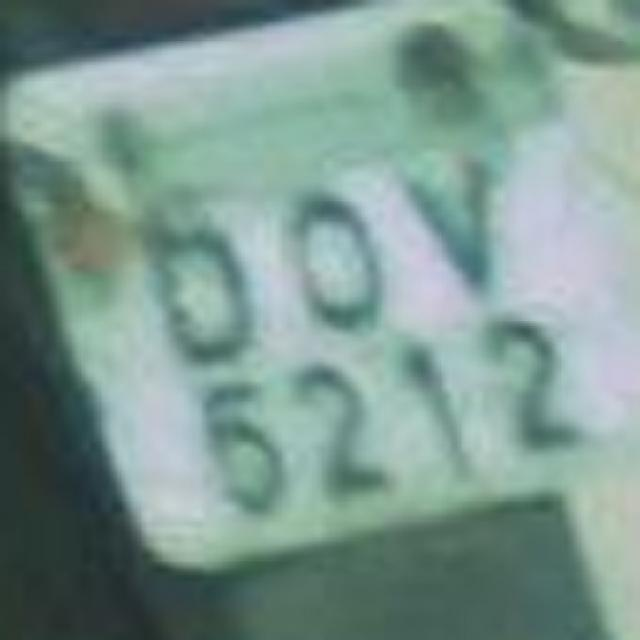1: (380, 316, 488, 484)
2: (268, 336, 424, 512)
3: (456, 284, 612, 468)
6: (172, 360, 312, 525)
C: (248, 165, 408, 340)
Y: (388, 132, 528, 300)
